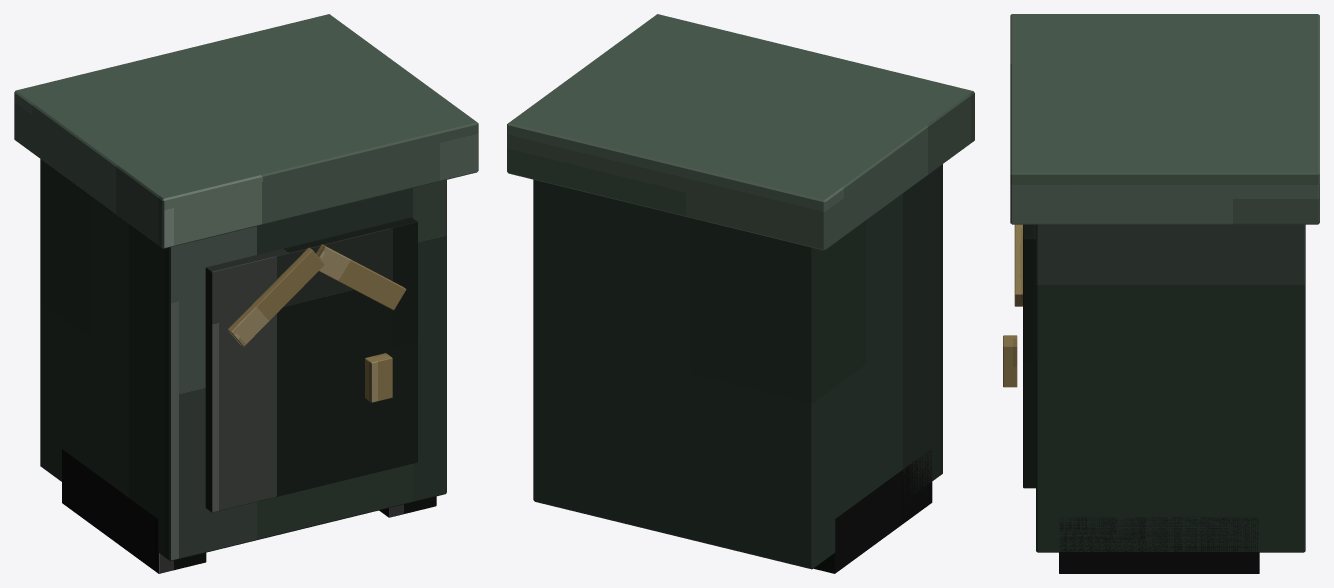
The model's file is gothic_nightstand_forest.glb.
The picture shows the model from 3 angles, left to right: view 1: azimuth 30°, elevation 25°; view 2: azimuth 150°, elevation 25°; view 3: azimuth 270°, elevation 25°; orthographic projection. The views are drawn at different scales.
Visible parts, largest first — view 1: NightstandBody, NightstandTop, PointedDoor, ClawFoot-0.24, DoorArchLeft, DoorArchRight, DoorPull; view 2: NightstandBody, NightstandTop, ClawFoot-0.24; view 3: NightstandBody, NightstandTop, ClawFoot0.24, PointedDoor, DoorPull, DoorArchRight.
Boxes of the visible parts, x1,y1,x2,y2 form: NightstandBody: [40, 159, 446, 561]; NightstandTop: [14, 14, 478, 248]; PointedDoor: [205, 217, 417, 512]; ClawFoot-0.24: [62, 449, 206, 573]; DoorArchLeft: [228, 247, 324, 346]; DoorArchRight: [316, 244, 406, 310]; DoorPull: [365, 353, 392, 402]; NightstandBody: [533, 164, 942, 569]; NightstandTop: [507, 14, 974, 250]; ClawFoot-0.24: [813, 449, 932, 573]; NightstandBody: [1036, 224, 1305, 552]; NightstandTop: [1010, 14, 1319, 224]; ClawFoot0.24: [1059, 517, 1259, 573]; PointedDoor: [1023, 224, 1035, 488]; DoorPull: [1003, 335, 1017, 387]; DoorArchRight: [1014, 224, 1022, 306].
Bounding box in the file's own units: 0.66 × 0.79 × 0.5525.
1 material, 1 textured.
